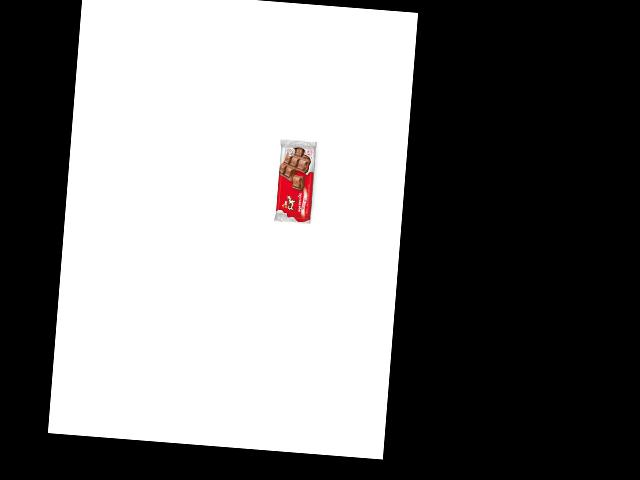chocolate: (273, 136, 317, 224)
